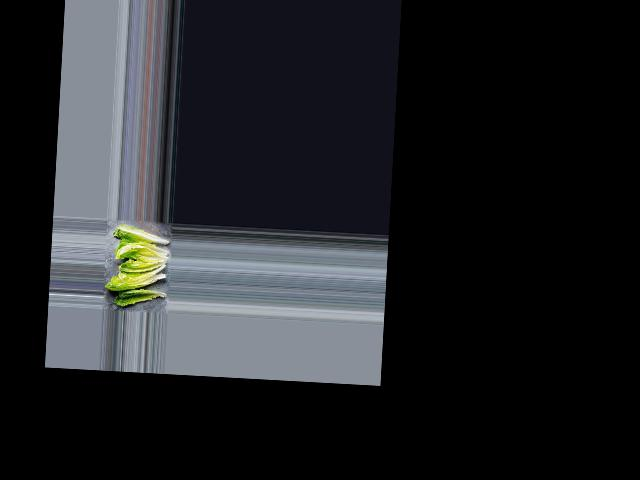lettuce: (114, 286, 168, 307)
